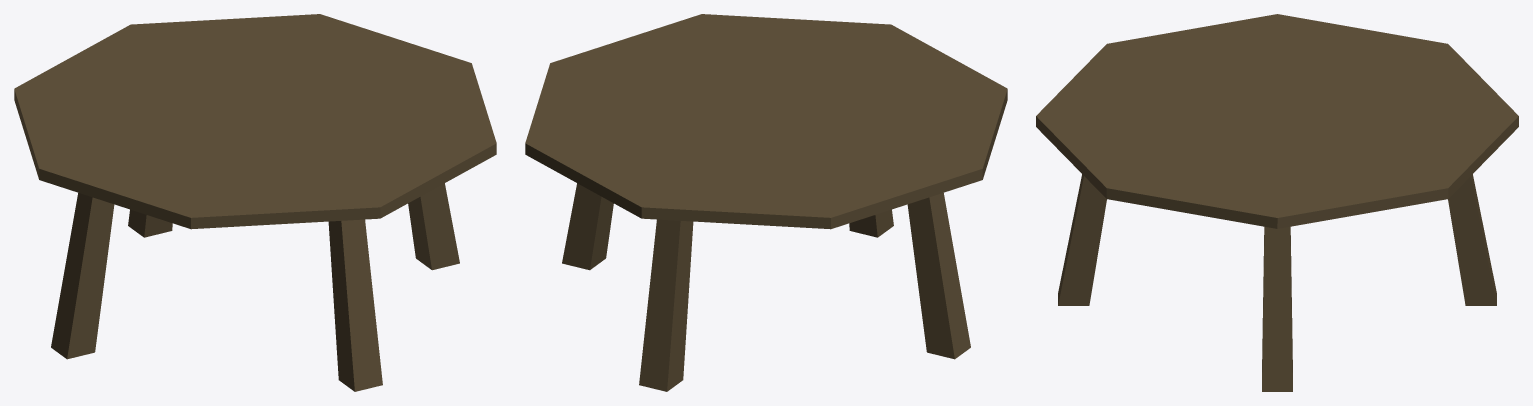
Rendered from enchantedforest_table_1.fbx.
3 views of the same model, side by side, from view 1: azimuth 30°, elevation 25°; view 2: azimuth 150°, elevation 25°; view 3: azimuth 270°, elevation 25° (orthographic). The views are drawn at different scales.
Parts seen in each view (by area): view 1: Cube.027; view 2: Cube.027; view 3: Cube.027.
Boxes of the visible parts, <box> form: Cube.027: <box>14,14,496,391</box>; Cube.027: <box>525,14,1007,391</box>; Cube.027: <box>1036,14,1518,391</box>.
Size of the model in its own units: 2 by 0.8375 by 2.
